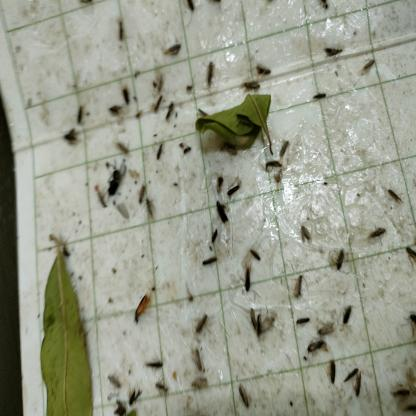prays_oleae: (243, 305, 276, 345), (210, 192, 234, 224), (193, 307, 214, 340), (291, 263, 305, 308), (318, 38, 342, 64), (186, 376, 210, 398), (154, 375, 170, 408), (238, 263, 255, 293), (141, 197, 158, 226), (311, 87, 328, 114), (297, 221, 311, 250), (336, 248, 346, 287), (193, 340, 205, 372), (164, 39, 182, 60), (362, 52, 376, 79), (296, 313, 312, 336), (64, 126, 79, 150), (402, 242, 416, 267), (137, 179, 147, 213), (406, 308, 416, 342), (386, 182, 401, 204), (73, 104, 88, 126), (162, 101, 177, 123), (201, 252, 219, 270), (147, 94, 164, 113), (204, 56, 214, 88), (243, 78, 259, 98), (127, 386, 144, 404), (265, 154, 283, 171), (308, 343, 323, 363), (148, 354, 164, 372), (106, 100, 122, 118), (239, 378, 247, 410), (369, 223, 383, 241), (122, 82, 131, 110), (155, 141, 165, 165), (258, 61, 270, 80), (330, 358, 338, 385), (344, 305, 353, 328), (343, 371, 358, 383), (252, 246, 260, 267)
